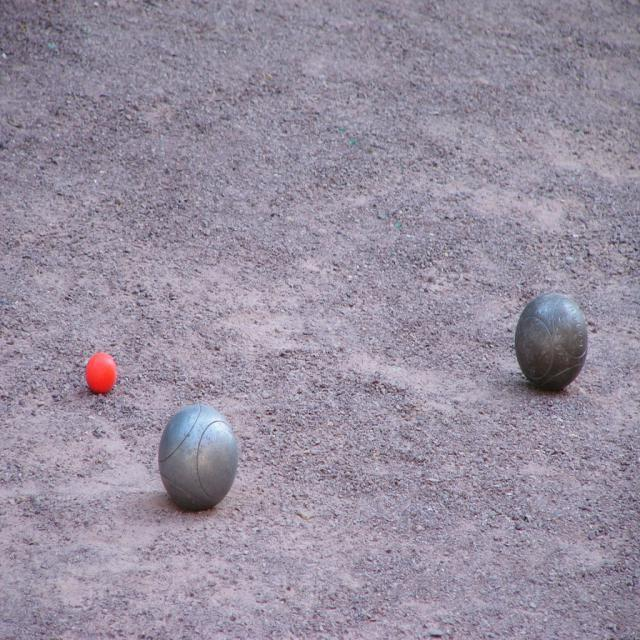ball: (158, 404, 238, 512), (515, 293, 588, 392)
